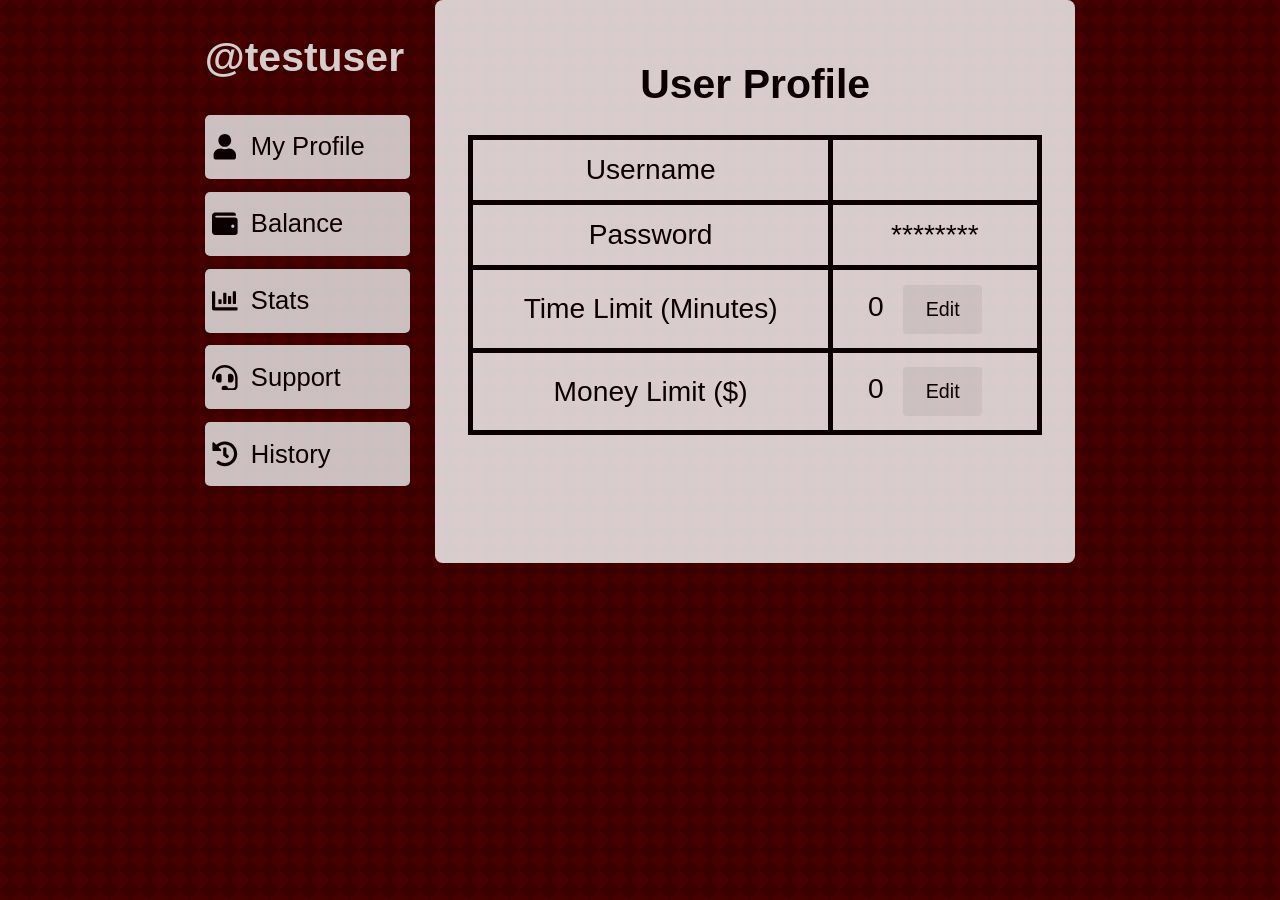
Profile Component Integration Tests › switches to the Balance panel when the Balance button is clicked
The image size is (1280, 900).
// Click the Balance button
Click the button "Balance" at (307, 224), box [205,192,410,256]
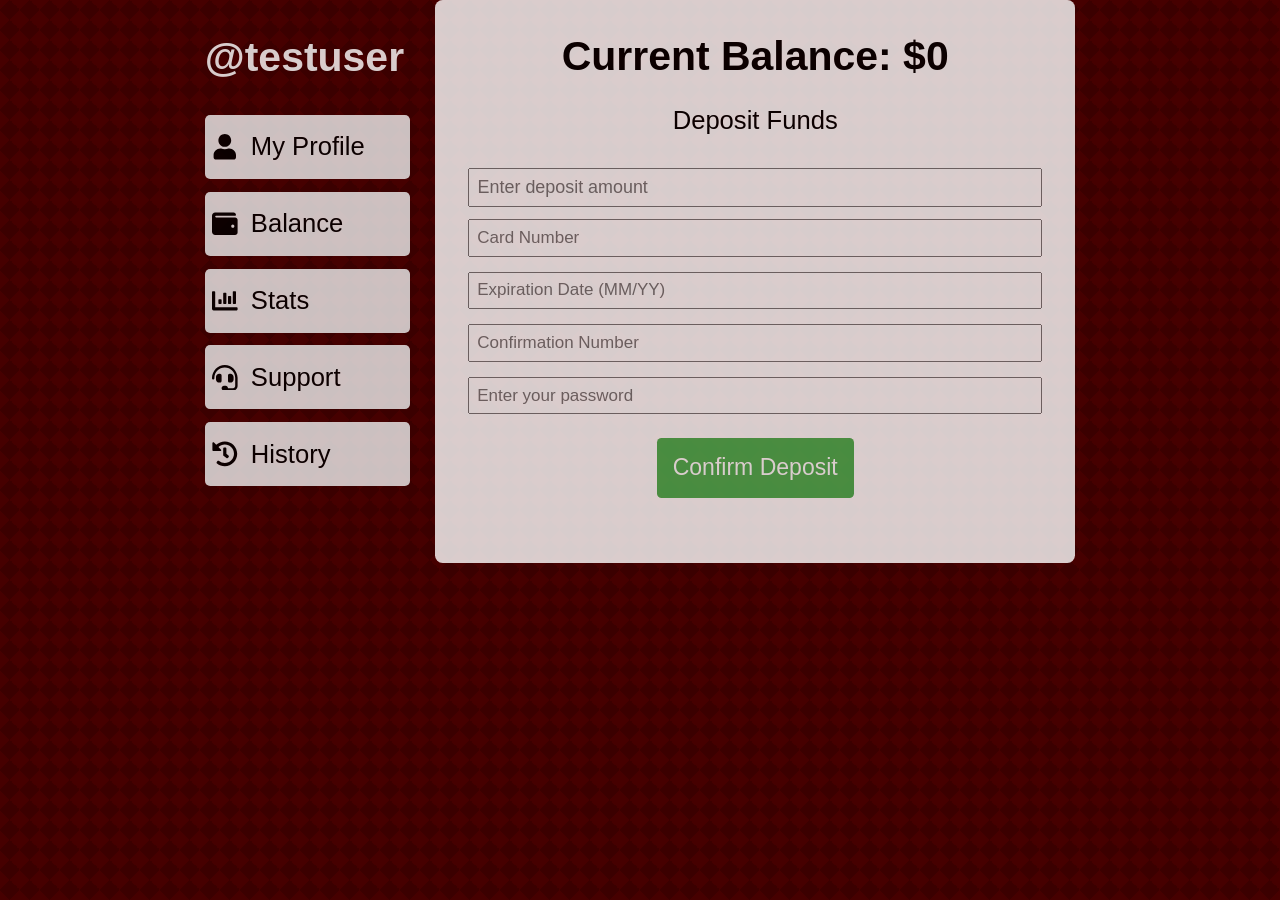
Expected: the text "Current Balance: $0" is shown, [562,33,949,79]
